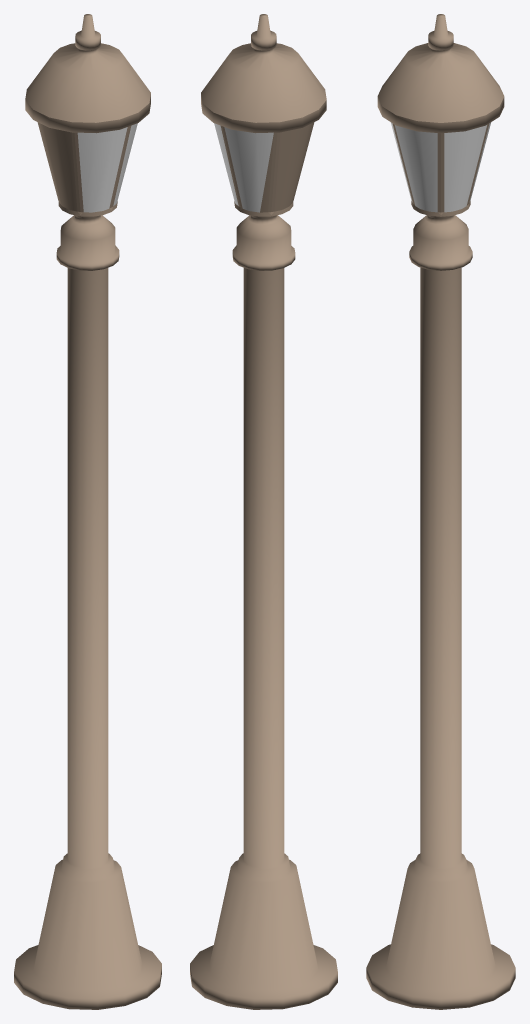
Rendered from StreetLamp_split2.glb.
The picture shows the model from 3 angles, left to right: view 1: azimuth 30°, elevation 25°; view 2: azimuth 150°, elevation 25°; view 3: azimuth 270°, elevation 25°; orthographic projection.
Parts seen in each view (by area): view 1: LampBody, LampGlass; view 2: LampBody, LampGlass; view 3: LampBody, LampGlass.
Boxes of the visible parts, left/top/right/bottom form: LampBody: left=14, top=14, right=161, bottom=1009; LampGlass: left=77, top=123, right=137, bottom=212; LampBody: left=190, top=14, right=337, bottom=1009; LampGlass: left=214, top=123, right=273, bottom=212; LampBody: left=366, top=14, right=515, bottom=1009; LampGlass: left=391, top=122, right=490, bottom=212.
Size of the model in its own units: 4.98 by 35.48 by 4.98.
